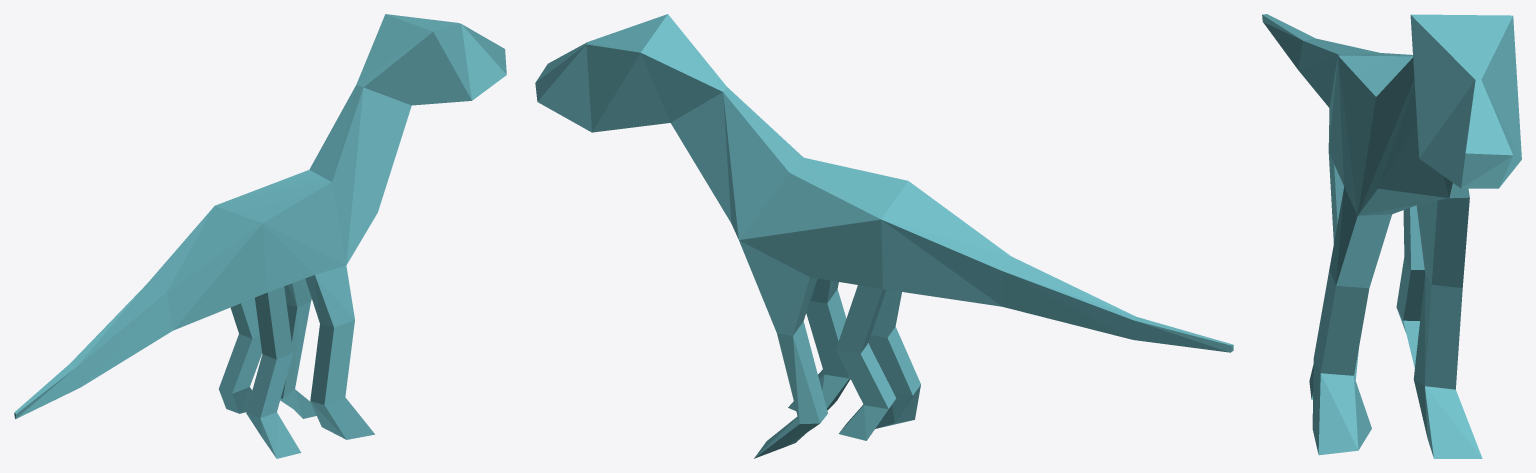
3 views of the same model, side by side, from view 1: azimuth 30°, elevation 25°; view 2: azimuth 150°, elevation 25°; view 3: azimuth 270°, elevation 25° (orthographic). The views are drawn at different scales.
Visible parts, largest first — view 1: node_MeshObject-219679296-PolyPaper3; view 2: node_MeshObject-219679296-PolyPaper3; view 3: node_MeshObject-219679296-PolyPaper3.
Part boxes in pixels (x1,y1,x2,y2): node_MeshObject-219679296-PolyPaper3: [14, 14, 506, 458]; node_MeshObject-219679296-PolyPaper3: [535, 14, 1233, 458]; node_MeshObject-219679296-PolyPaper3: [1262, 14, 1521, 458].
Size of the model in its own units: 1.74 by 1.09 by 0.4961.
